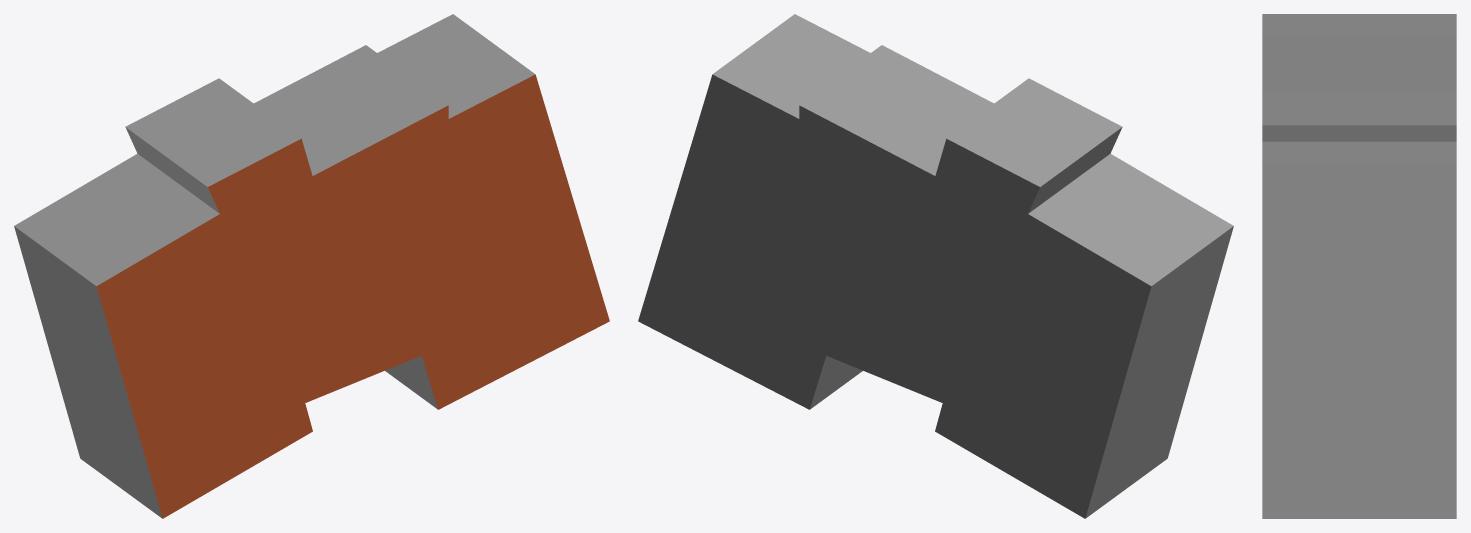
Rendered from construction_5981_assumed_A_Casa_h6m.obj.
The picture shows the model from 3 angles, left to right: view 1: azimuth 30°, elevation 25°; view 2: azimuth 150°, elevation 25°; view 3: azimuth 270°, elevation 25°; orthographic projection. The views are drawn at different scales.
Visible parts, largest first — view 1: construction_5981_assumed_A_Casa; view 2: construction_5981_assumed_A_Casa; view 3: construction_5981_assumed_A_Casa.
Boxes of the visible parts, x1,y1,x2,y2 form: construction_5981_assumed_A_Casa: [14, 14, 609, 518]; construction_5981_assumed_A_Casa: [638, 14, 1233, 518]; construction_5981_assumed_A_Casa: [1262, 14, 1456, 518].
Size of the model in its own units: 21.57 by 14.19 by 6.
